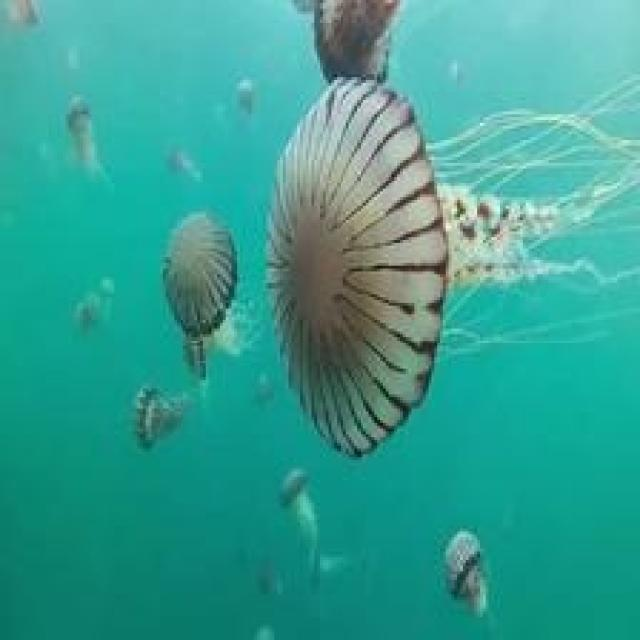Jellyfish: (247, 75, 640, 459), (160, 209, 237, 377), (443, 529, 486, 617)
